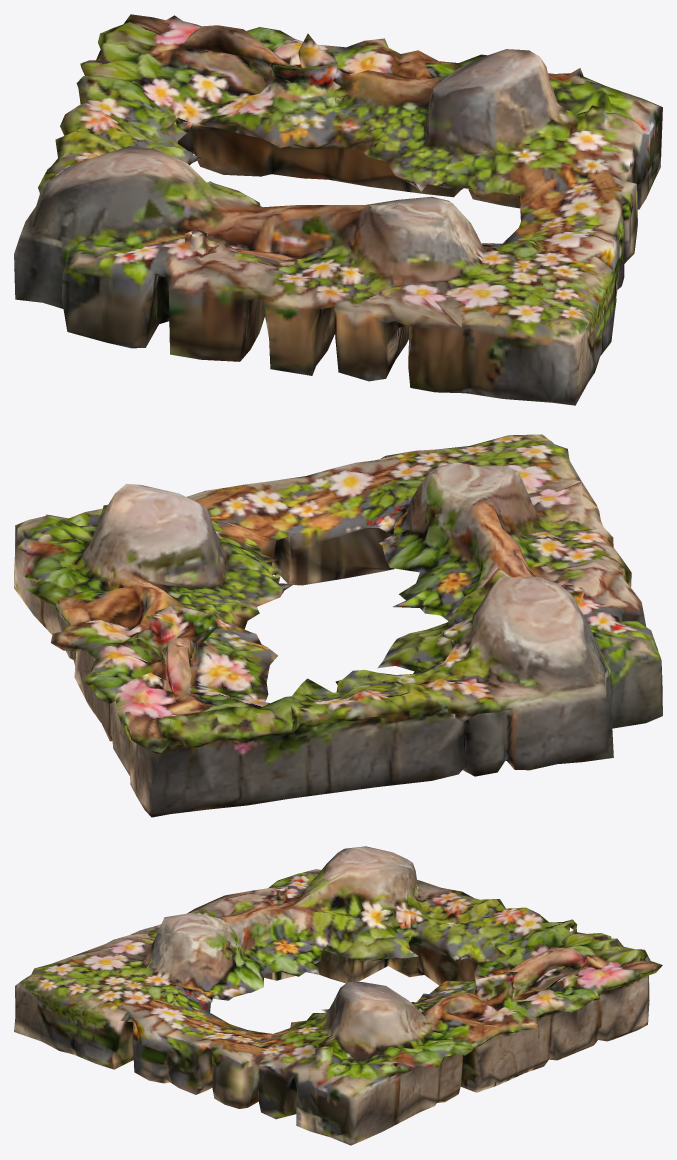
The model's file is SpringDecor_FirstRoom_GardenRing.fbx.
The picture shows the model from 3 angles, top to bottom: view 1: azimuth 30°, elevation 25°; view 2: azimuth 150°, elevation 25°; view 3: azimuth 270°, elevation 25°; orthographic projection. The views are drawn at different scales.
Parts seen in each view (by area): view 1: SpringDecor_FirstRoom_GardenRing_Mesh; view 2: SpringDecor_FirstRoom_GardenRing_Mesh; view 3: SpringDecor_FirstRoom_GardenRing_Mesh.
Boxes of the visible parts, x1=… form: SpringDecor_FirstRoom_GardenRing_Mesh: x1=14, y1=14, x2=662, y2=405; SpringDecor_FirstRoom_GardenRing_Mesh: x1=14, y1=434, x2=662, y2=817; SpringDecor_FirstRoom_GardenRing_Mesh: x1=14, y1=846, x2=662, y2=1145.
Size of the model in its own units: 5.01 by 1.09 by 6.
1 material, 1 textured.
